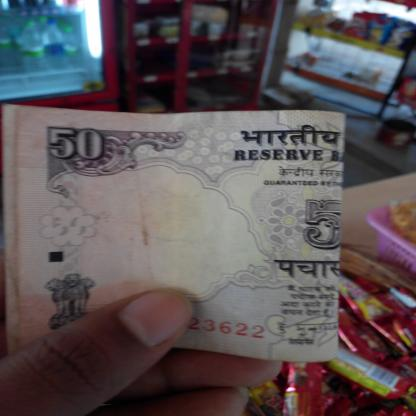Old50Front: (0, 103, 345, 363)
